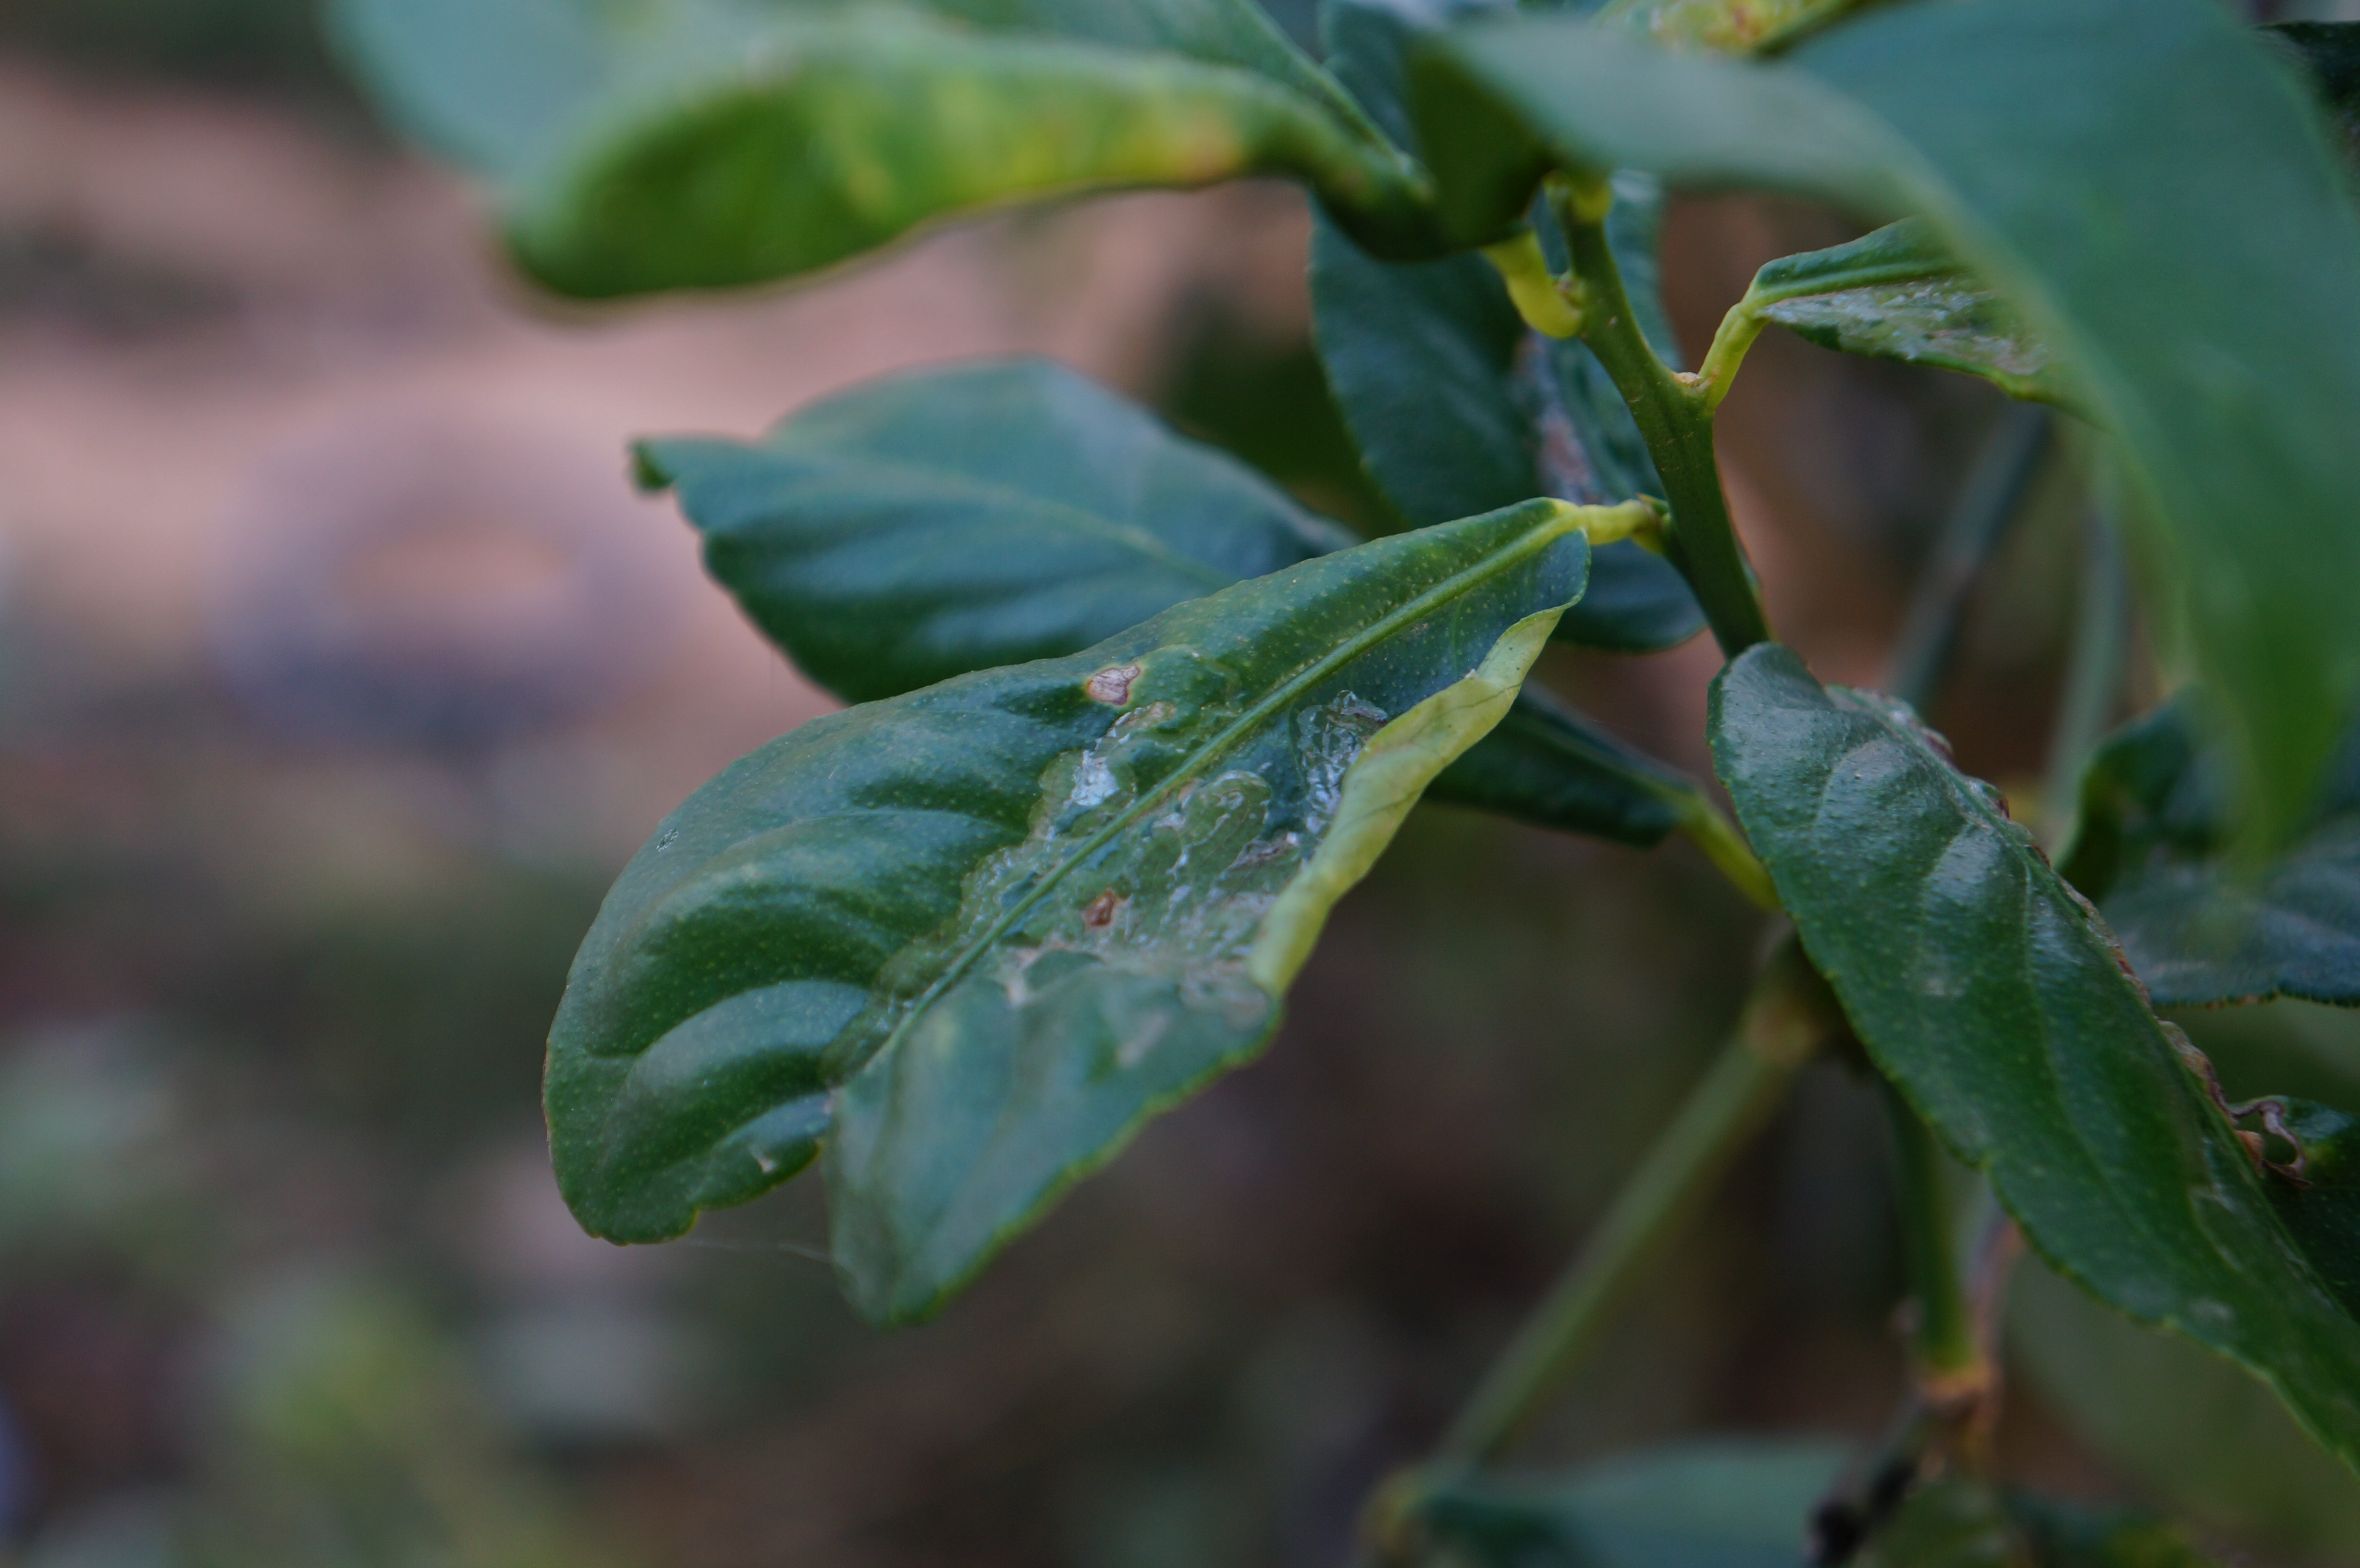damage: (999, 642, 1417, 1055)
